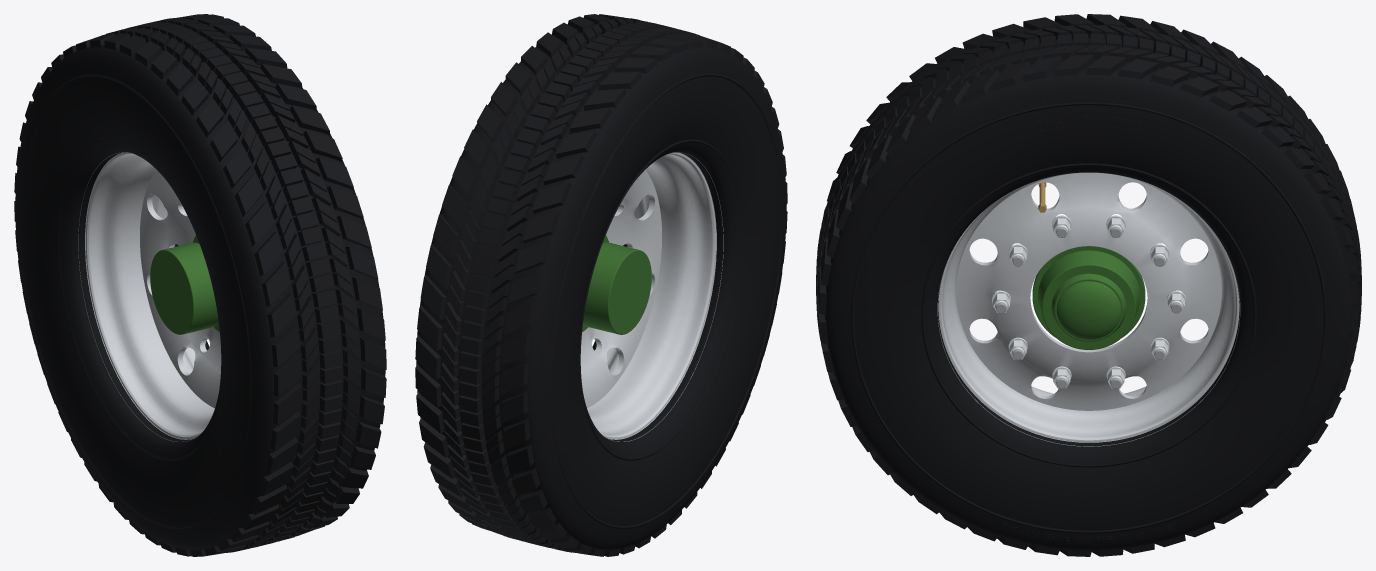
The model's file is wheel.glb.
The picture shows the model from 3 angles, left to right: view 1: azimuth 30°, elevation 25°; view 2: azimuth 150°, elevation 25°; view 3: azimuth 270°, elevation 25°; orthographic projection. The views are drawn at different scales.
Parts seen in each view (by area): view 1: tyre, rim, hub; view 2: tyre, rim, hub; view 3: tyre, rim, hub, lug_nuts.
Part boxes in pixels (box(x1,y1,x2,y2)): tyre: box(14, 14, 386, 556); rim: box(78, 152, 221, 441); hub: box(150, 235, 219, 334); tyre: box(415, 14, 787, 556); rim: box(580, 152, 723, 441); hub: box(582, 235, 651, 334); tyre: box(816, 14, 1361, 556); rim: box(937, 172, 1240, 446); hub: box(1032, 246, 1145, 349); lug_nuts: box(991, 215, 1186, 388).
Size of the model in its own units: 0.2998 by 1.04 by 1.04.
